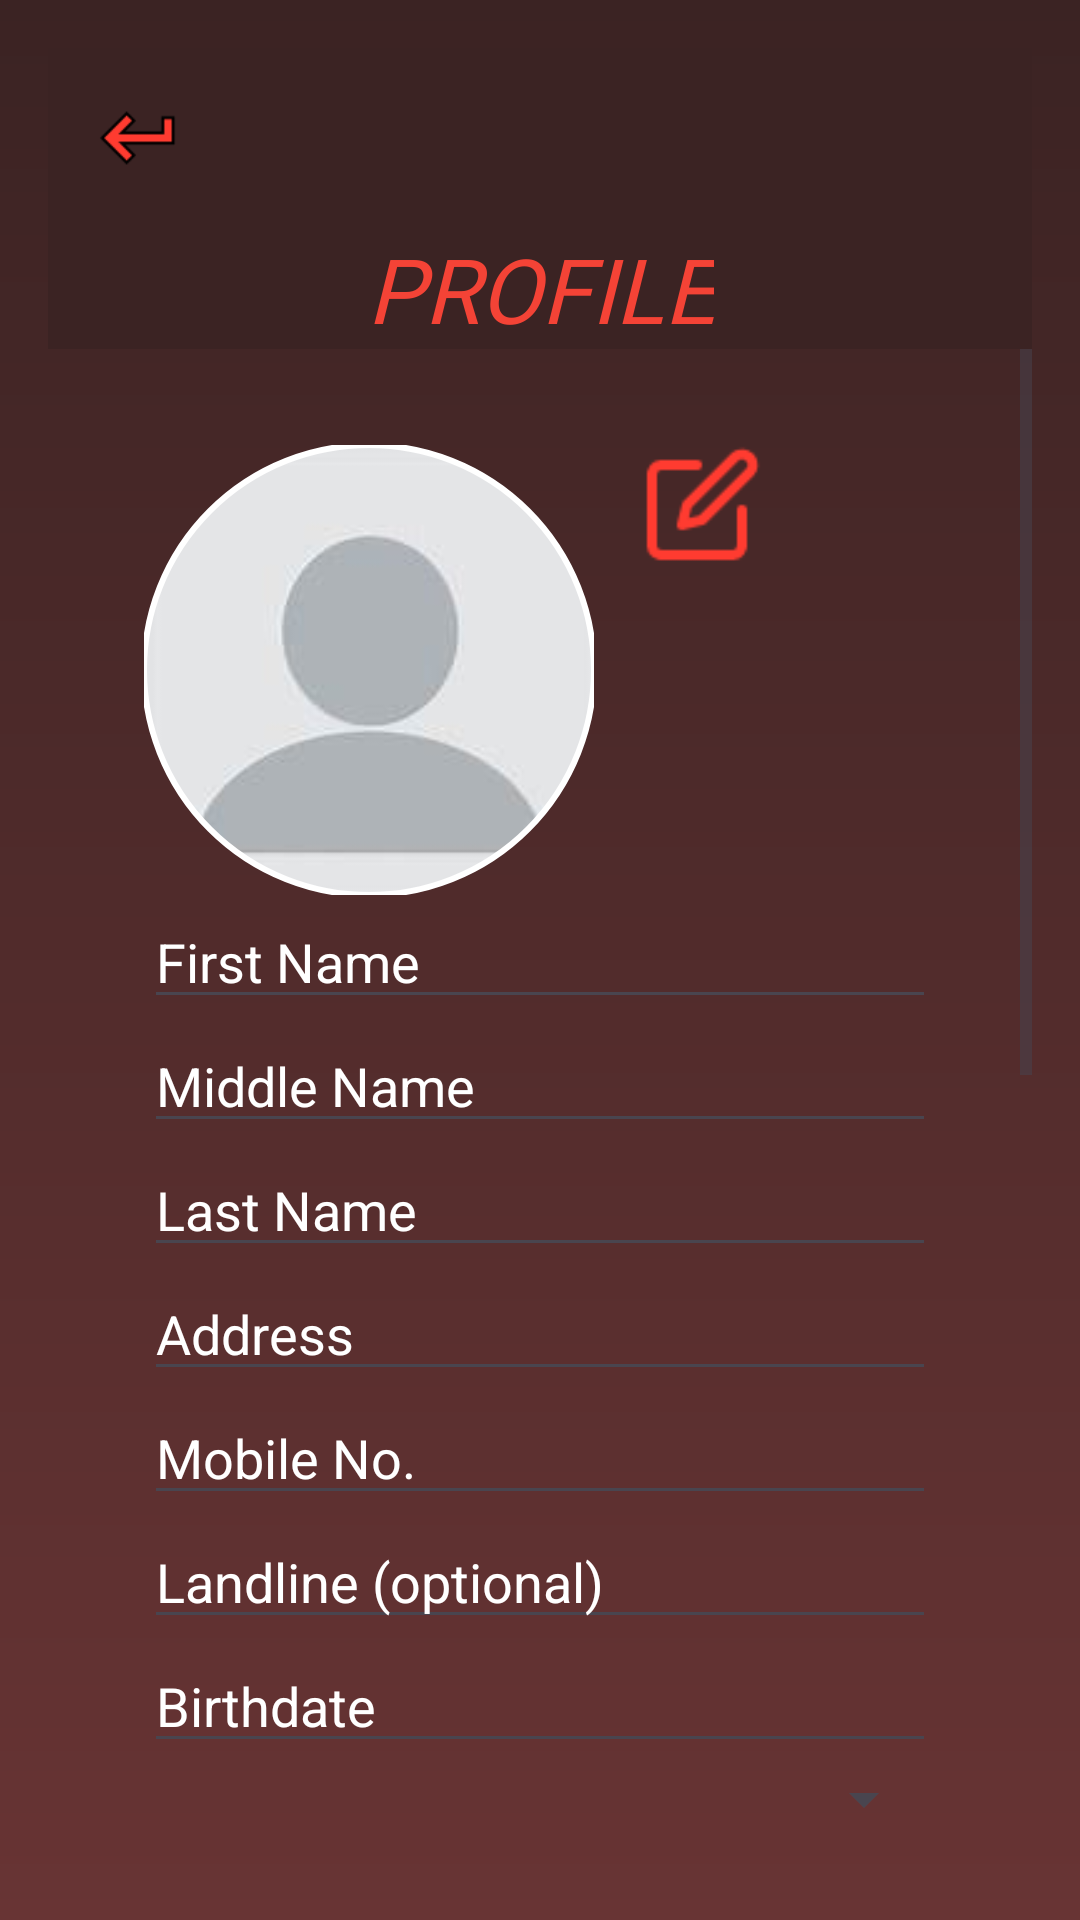

Where to tap for icons on this 1080px x 1920px app screen, as point (x, y):
back: point (138, 138)
